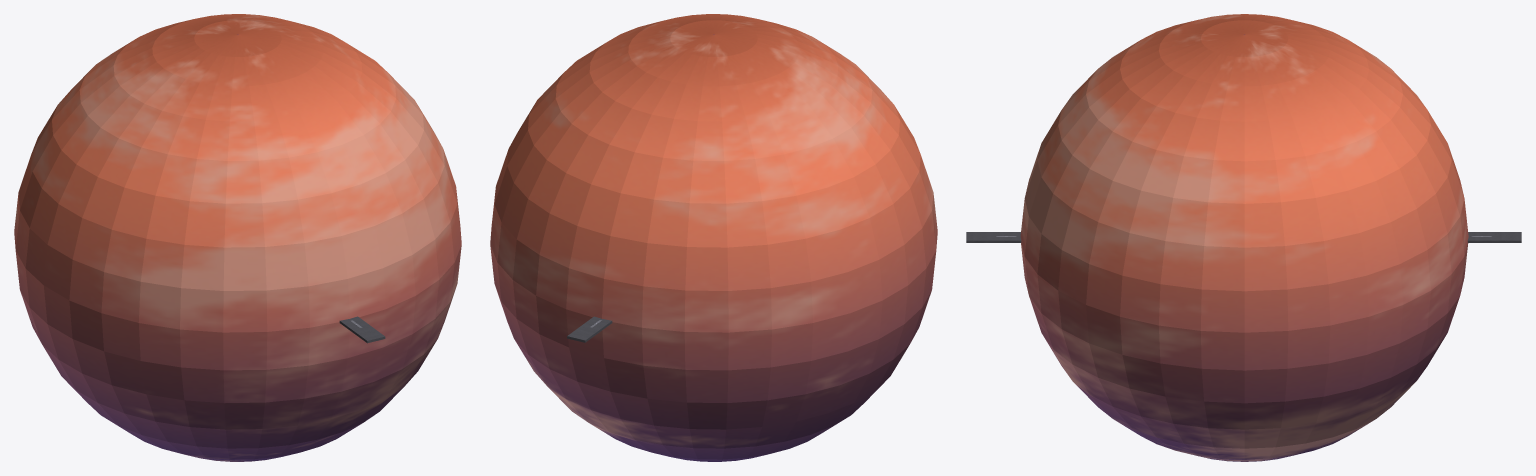
File: fireflyhollow_start.fbx
3 renders of one model, left to right at view 1: azimuth 30°, elevation 25°; view 2: azimuth 150°, elevation 25°; view 3: azimuth 270°, elevation 25°, orthographic.
Parts seen in each view (by area): view 1: Sphere, road.001; view 2: Sphere, road.002; view 3: Sphere, road.001, road.002.
Boxes of the visible parts, x1,y1,x2,y2 form: Sphere: (14, 14, 461, 461); road.001: (339, 316, 385, 343); Sphere: (490, 14, 937, 461); road.002: (567, 316, 612, 342); Sphere: (1020, 14, 1468, 461); road.001: (966, 232, 1021, 242); road.002: (1467, 232, 1521, 242).
Size of the model in its own units: 18354 by 18354 by 22721.
Materials: 11 (9 with a texture image).
